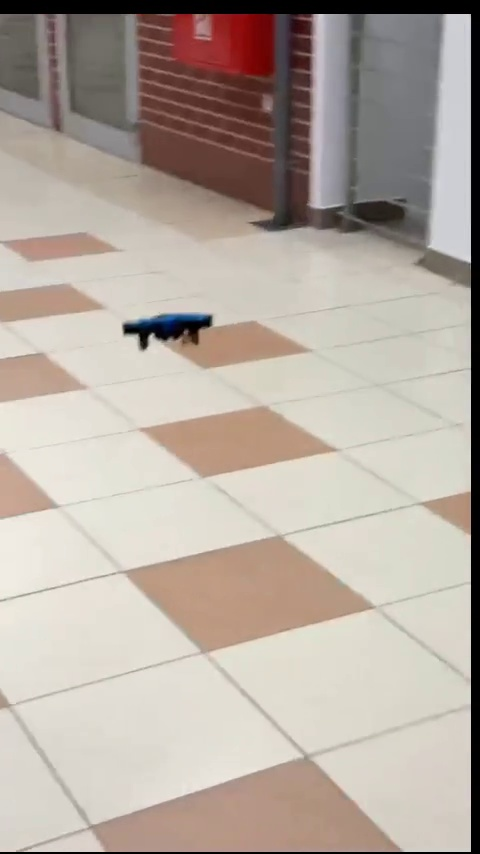drone: (122, 312, 215, 351)
